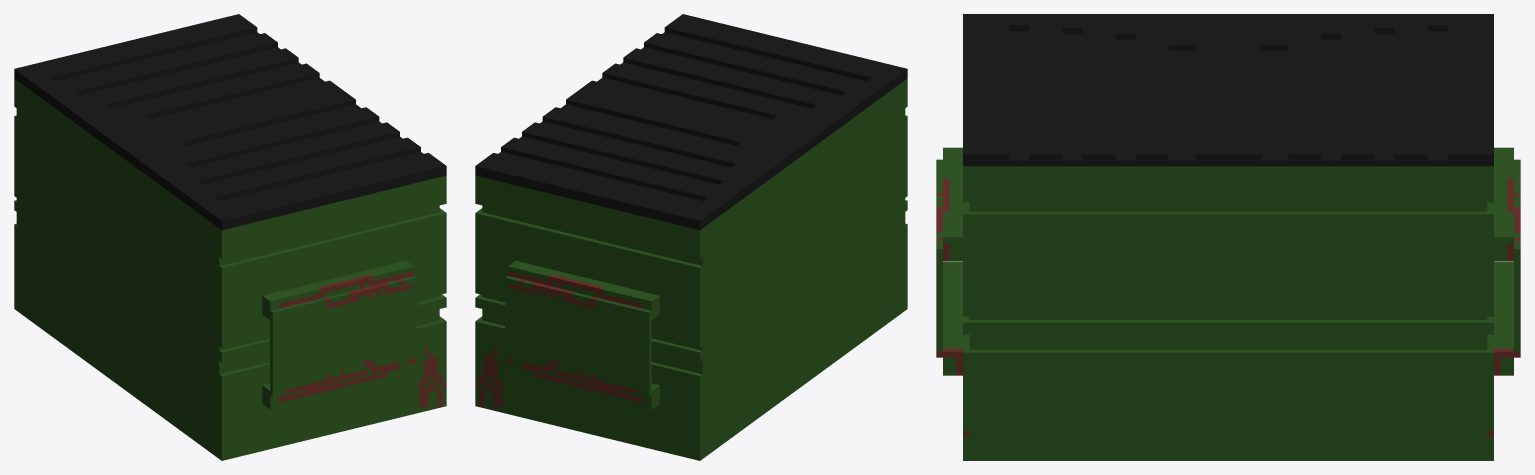
The model's file is dumpster.glb.
3 views of the same model, side by side, from view 1: azimuth 30°, elevation 25°; view 2: azimuth 150°, elevation 25°; view 3: azimuth 270°, elevation 25° (orthographic). The views are drawn at different scales.
Parts seen in each view (by area): view 1: garage-short-67; view 2: garage-short-67; view 3: garage-short-67.
Boxes of the visible parts, left/top/right/bottom form: garage-short-67: left=14, top=14, right=446, bottom=460; garage-short-67: left=475, top=14, right=907, bottom=460; garage-short-67: left=936, top=14, right=1520, bottom=460.
Bounding box in the file's own units: 50 × 51 × 88.
1 material, 1 textured.
